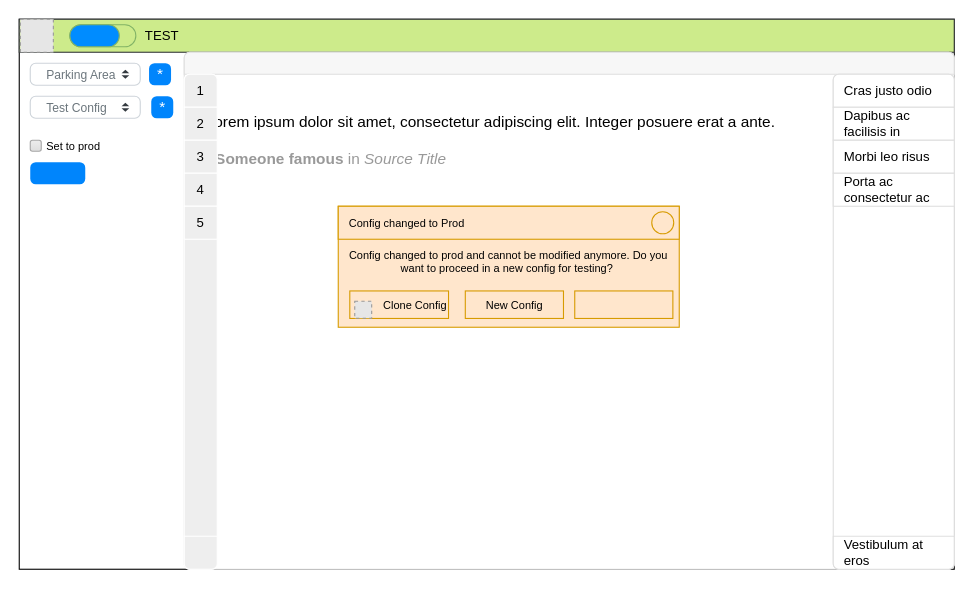
Some shapes in this 974 by 589 pixel diagram are drawn without their labels. Grey dashed boxes stand in for pictures. The box of each missing label's shape, as (x1, y1, x2, y2) in pixels:
Show Prod: (574, 290, 673, 318)
Submit: (30, 162, 85, 184)
